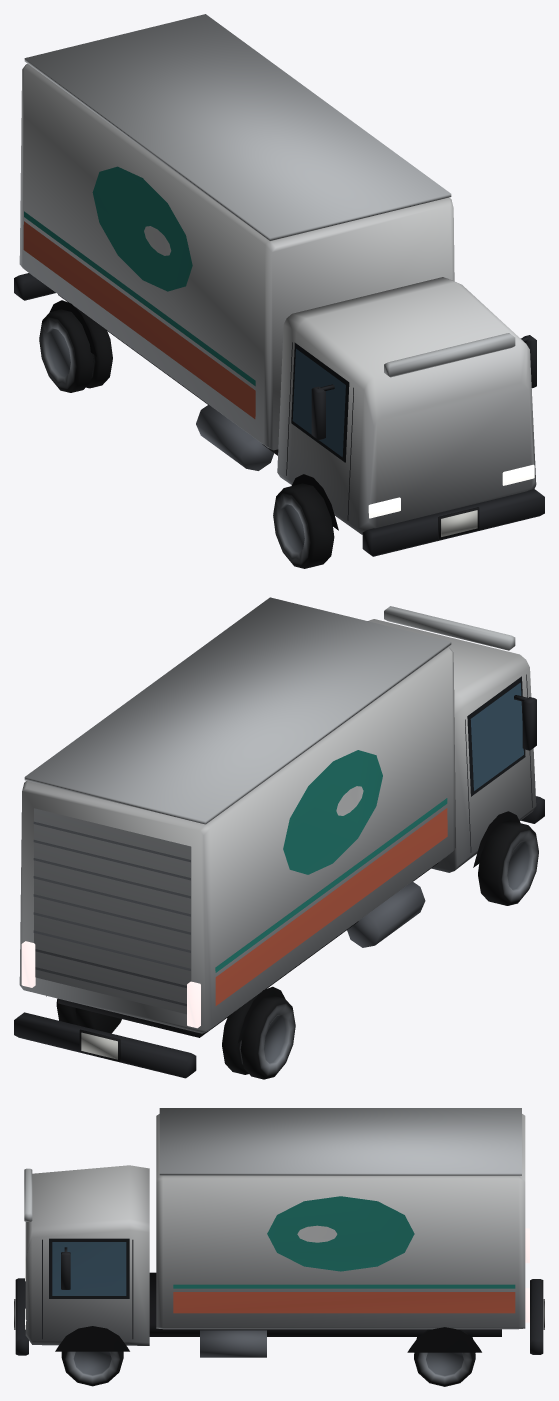
The model's file is camion_reparto.glb.
The picture shows the model from 3 angles, top to bottom: view 1: azimuth 30°, elevation 25°; view 2: azimuth 150°, elevation 25°; view 3: azimuth 270°, elevation 25°; orthographic projection. The views are drawn at different scales.
Visible parts, largest first — view 1: camion_reparto; view 2: camion_reparto; view 3: camion_reparto.
Boxes of the visible parts, x1,y1,x2,y2 form: camion_reparto: (14,14,544,568); camion_reparto: (14,597,544,1079); camion_reparto: (14,1108,544,1386).
Size of the model in its own units: 2.84 by 3.52 by 7.92.
